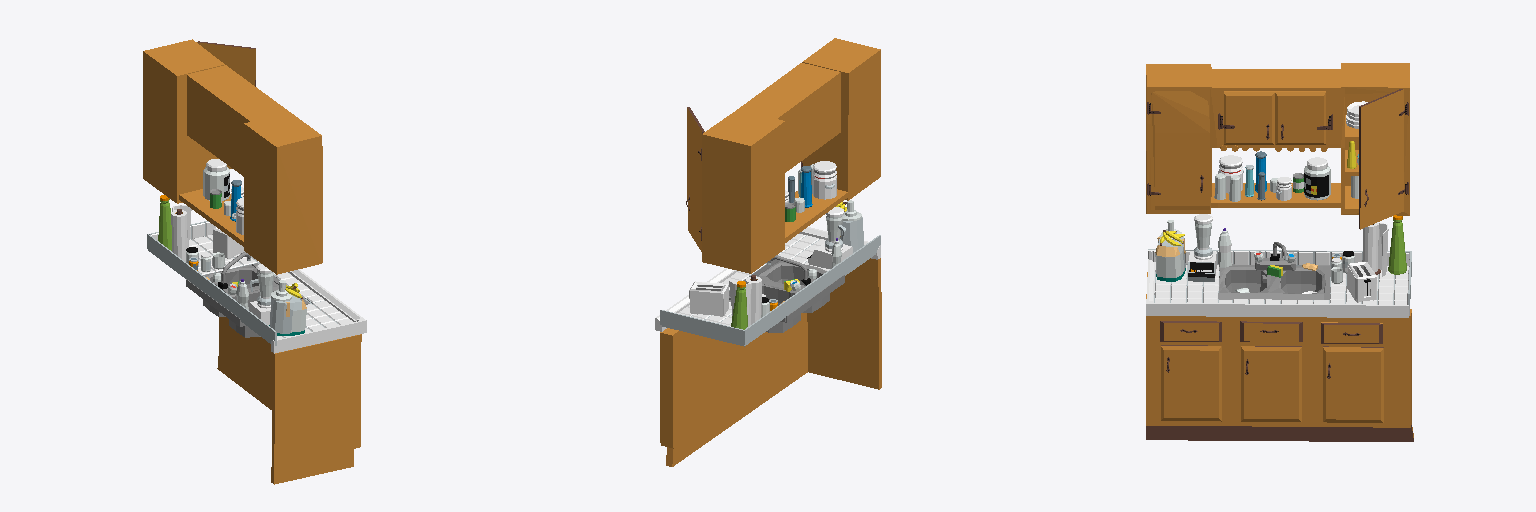
The model's file is cabinet.obj.
The picture shows the model from 3 angles: view 1: azimuth 30°, elevation 25°; view 2: azimuth 150°, elevation 25°; view 3: azimuth 270°, elevation 25°; orthographic projection.
Parts seen in each view (by area): view 1: group[number redacted], group[number redacted], group[number redacted], group[number redacted], group[number redacted], group[number redacted], group[number redacted], group[number redacted], group[number redacted], group[number redacted], group[number redacted], group[number redacted] (+7 smaller); view 2: group[number redacted], group[number redacted], group[number redacted], group[number redacted], group[number redacted], group[number redacted], group[number redacted], group[number redacted], group[number redacted], group[number redacted], group[number redacted], group[number redacted] (+8 smaller); view 3: group[number redacted], group[number redacted], group[number redacted], group[number redacted], group[number redacted], group[number redacted], group[number redacted], group[number redacted], group[number redacted], group[number redacted], group[number redacted], group[number redacted] (+11 smaller).
Part boxes in pixels (bbox=[...]): group[number redacted]: bbox=[217, 317, 361, 484]; group[number redacted]: bbox=[244, 112, 322, 274]; group[number redacted]: bbox=[143, 39, 224, 203]; group[number redacted]: bbox=[187, 65, 288, 176]; group[number redacted]: bbox=[269, 280, 306, 335]; group[number redacted]: bbox=[197, 41, 255, 168]; group[number redacted]: bbox=[271, 321, 360, 353]; group[number redacted]: bbox=[179, 189, 243, 246]; group[number redacted]: bbox=[241, 301, 352, 343]; group[number redacted]: bbox=[249, 264, 273, 324]; group[number redacted]: bbox=[171, 205, 191, 261]; group[number redacted]: bbox=[203, 159, 229, 200]; group[number redacted]: bbox=[660, 258, 881, 466]; group[number redacted]: bbox=[702, 109, 784, 273]; group[number redacted]: bbox=[801, 38, 880, 200]; group[number redacted]: bbox=[738, 63, 840, 172]; group[number redacted]: bbox=[686, 107, 704, 251]; group[number redacted]: bbox=[660, 310, 742, 344]; group[number redacted]: bbox=[689, 281, 728, 316]; group[number redacted]: bbox=[807, 207, 852, 268]; group[number redacted]: bbox=[785, 189, 847, 242]; group[number redacted]: bbox=[757, 261, 829, 312]; group[number redacted]: bbox=[812, 161, 836, 199]; group[number redacted]: bbox=[778, 234, 875, 275]; group[number redacted]: bbox=[1146, 272, 1413, 441]; group[number redacted]: bbox=[1146, 64, 1211, 213]; group[number redacted]: bbox=[1359, 89, 1404, 229]; group[number redacted]: bbox=[1210, 69, 1344, 151]; group[number redacted]: bbox=[1341, 63, 1409, 215]; group[number redacted]: bbox=[1153, 303, 1409, 317]; group[number redacted]: bbox=[1275, 91, 1325, 144]; group[number redacted]: bbox=[1224, 91, 1274, 144]; group[number redacted]: bbox=[1211, 183, 1340, 207]; group[number redacted]: bbox=[1154, 265, 1219, 302]; group[number redacted]: bbox=[1188, 214, 1216, 281]; group[number redacted]: bbox=[1155, 220, 1185, 281].
Bounding box in the file's own units: 0.8223 × 2.77 × 1.99.